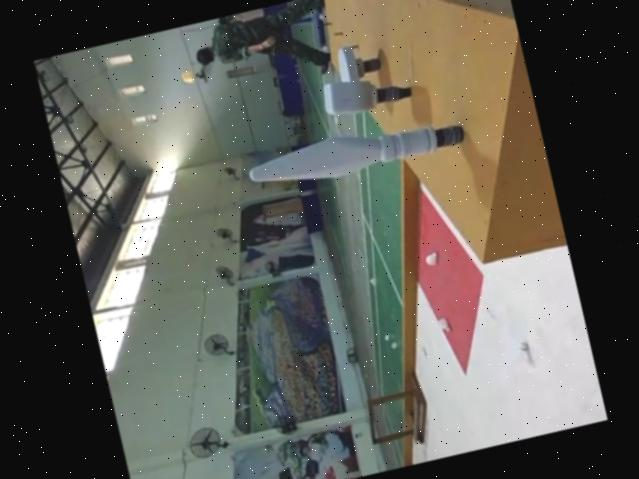Fist: (318, 62, 413, 120)
Hand: (333, 37, 386, 86)
Sph: (241, 101, 466, 198)
